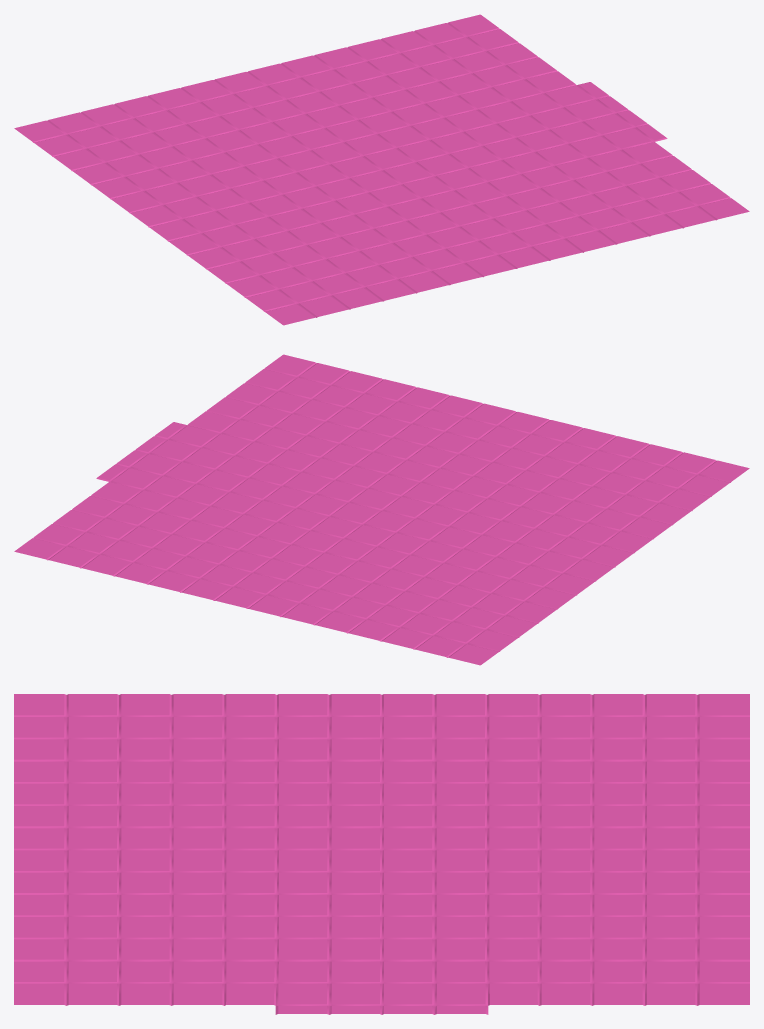
Rendered from OfficeFloor.fbx.
The picture shows the model from 3 angles, top to bottom: view 1: azimuth 30°, elevation 25°; view 2: azimuth 150°, elevation 25°; view 3: azimuth 270°, elevation 25°; orthographic projection. The views are drawn at different scales.
Visible parts, largest first — view 1: OfficeFloor; view 2: OfficeFloor; view 3: OfficeFloor.
Part boxes in pixels (<box>): OfficeFloor: <box>14,14,749,325</box>; OfficeFloor: <box>14,354,749,665</box>; OfficeFloor: <box>14,694,749,1014</box>.
Size of the model in its own units: 206 by 0.25 by 200.
